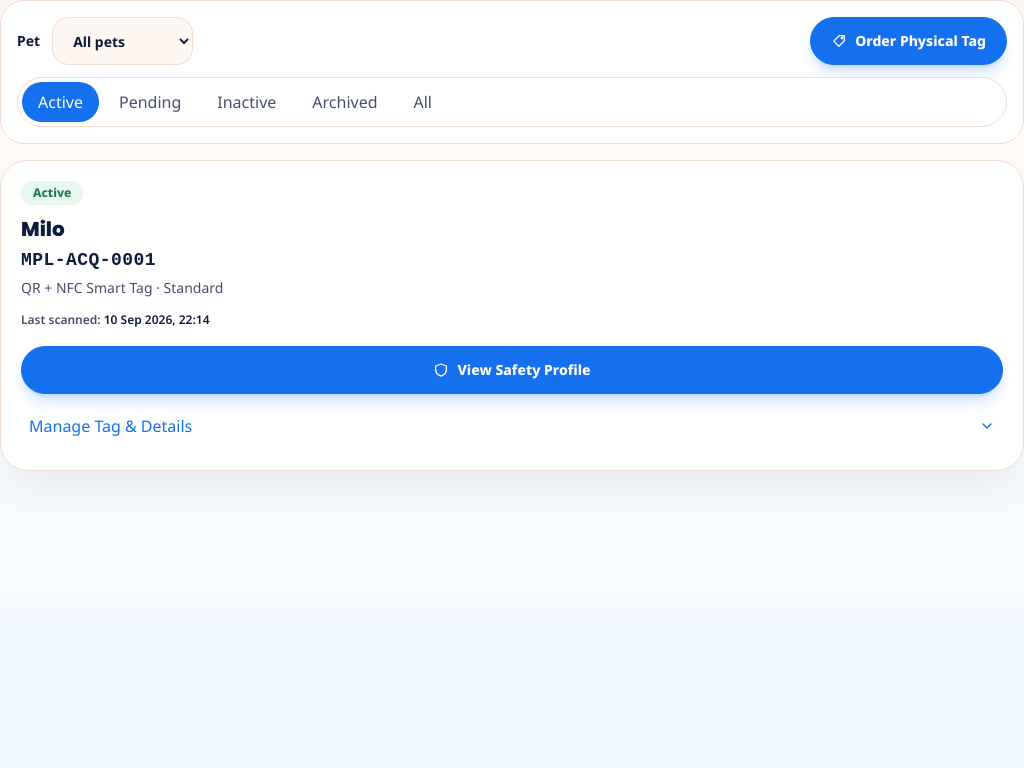
Test: Smart Tag card by acquisition route › A — shows the customer's own order date for a direct MyPetLink order
The image size is (1024, 768).
Expected: the text "MPL-ACQ-0001" is shown, [21, 250, 156, 270]
Click the button "Manage Tag & Details": {"x": 111, "y": 426} [21, 402, 1003, 450]
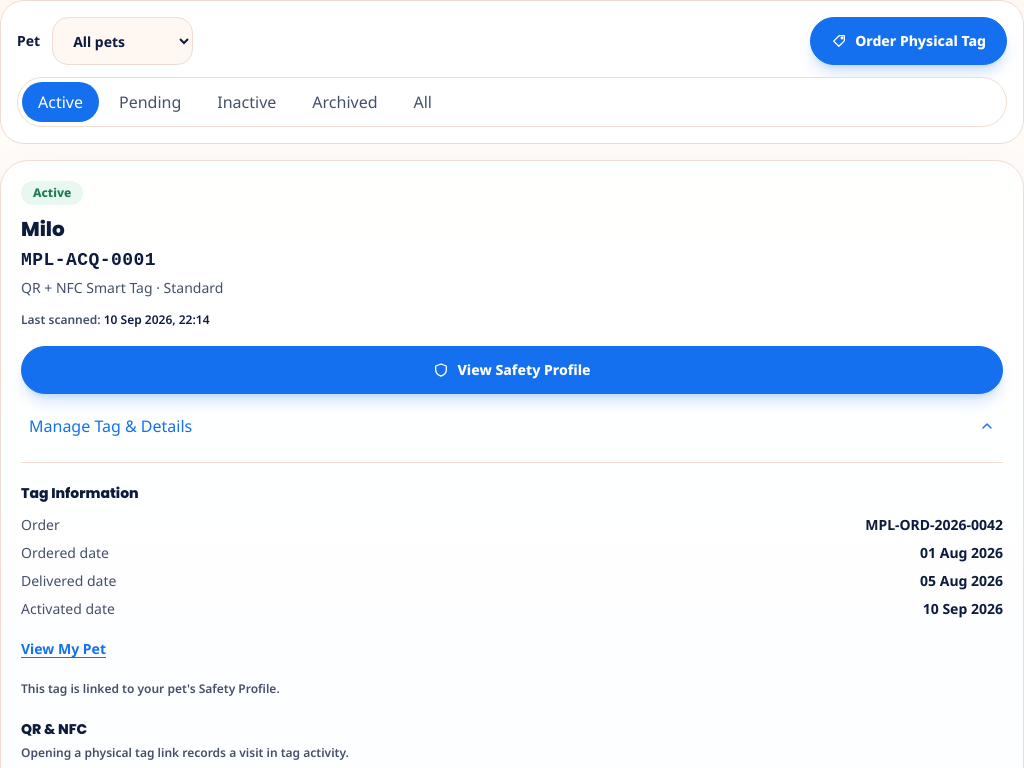
Now the text "Ordered date" is shown, box [21, 543, 109, 563]
Now the text "01 Aug 2026" is shown, box [920, 543, 1003, 563]
Now the text "Delivered date" is shown, box [21, 571, 116, 591]
